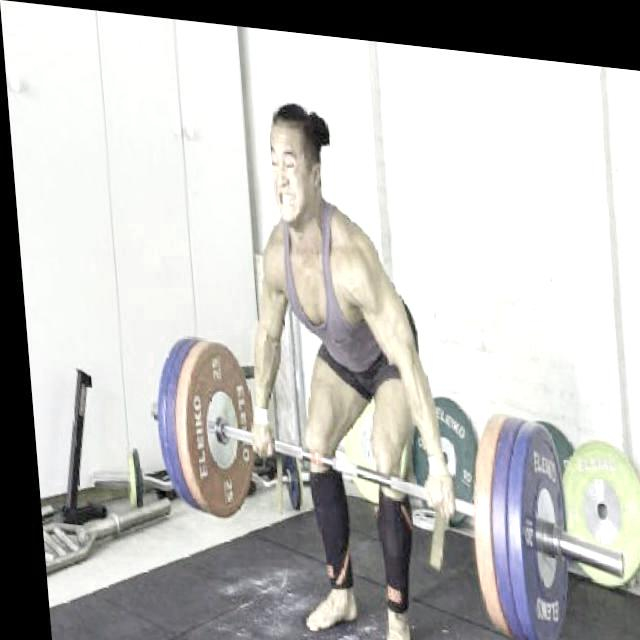barbell: (495, 404, 637, 640)
